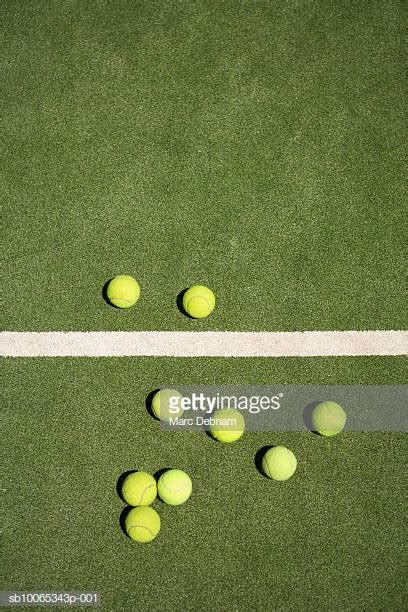tennis_ball: (208, 406, 245, 443), (156, 469, 192, 506), (311, 401, 347, 437), (121, 470, 157, 506), (151, 387, 186, 423), (125, 506, 160, 542), (262, 445, 297, 480), (105, 274, 141, 308), (182, 284, 216, 318)
